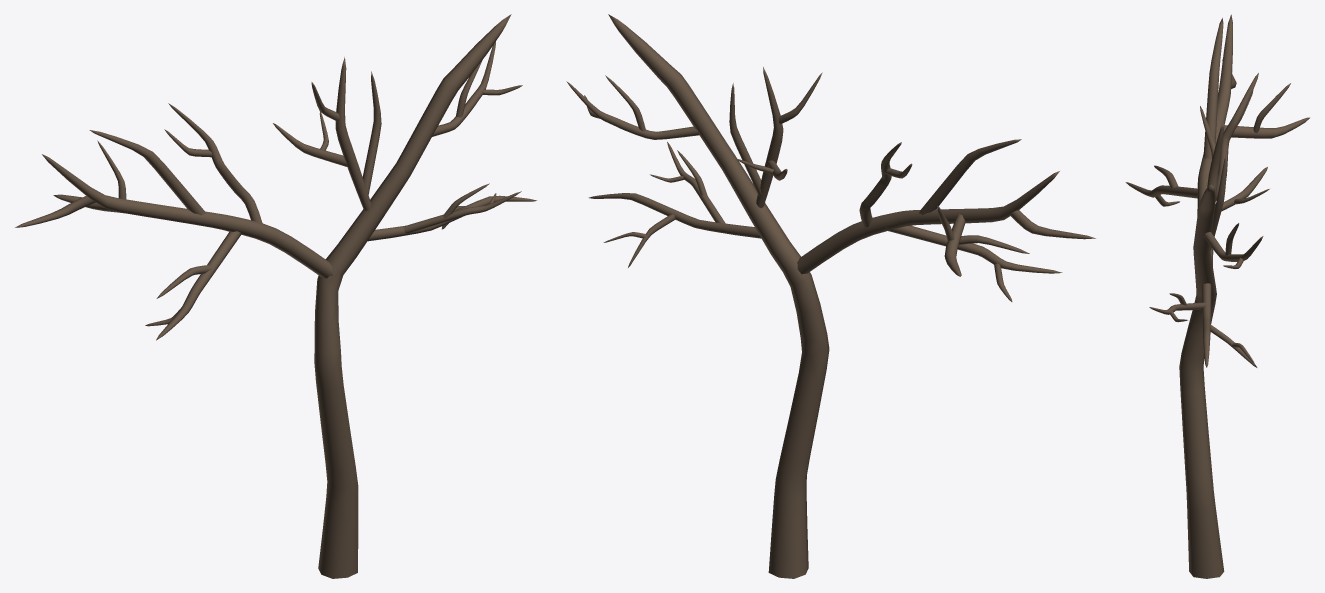
File: deadtree-4.glb
3 renders of one model, left to right at view 1: azimuth 30°, elevation 25°; view 2: azimuth 150°, elevation 25°; view 3: azimuth 270°, elevation 25°, orthographic. The views are drawn at different scales.
Visible parts, largest first — view 1: DeadTree_4; view 2: DeadTree_4; view 3: DeadTree_4.
Part boxes in pixels (left/top/right/bottom): DeadTree_4: left=15, top=14, right=536, bottom=578; DeadTree_4: left=566, top=14, right=1095, bottom=578; DeadTree_4: left=1125, top=14, right=1309, bottom=578.
Size of the model in its own units: 4.85 by 4.61 by 1.67.
